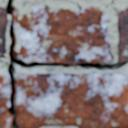brick: (15, 6, 113, 63), (118, 8, 127, 60), (0, 7, 7, 57)
broken_brick: (17, 72, 127, 127), (0, 74, 11, 127)
crack: (1, 0, 127, 127)
